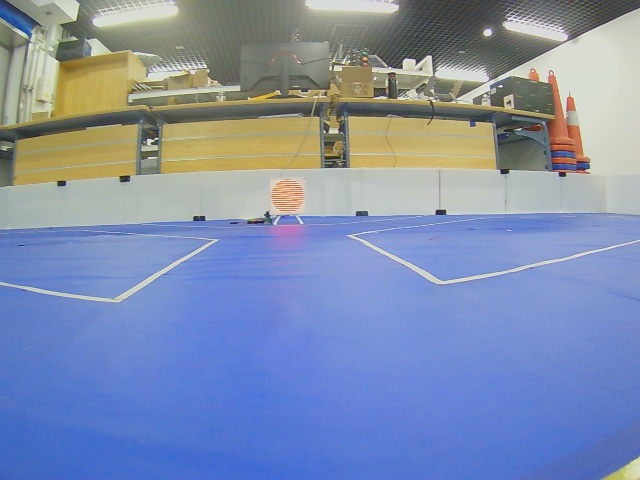red: (270, 179, 305, 215)
